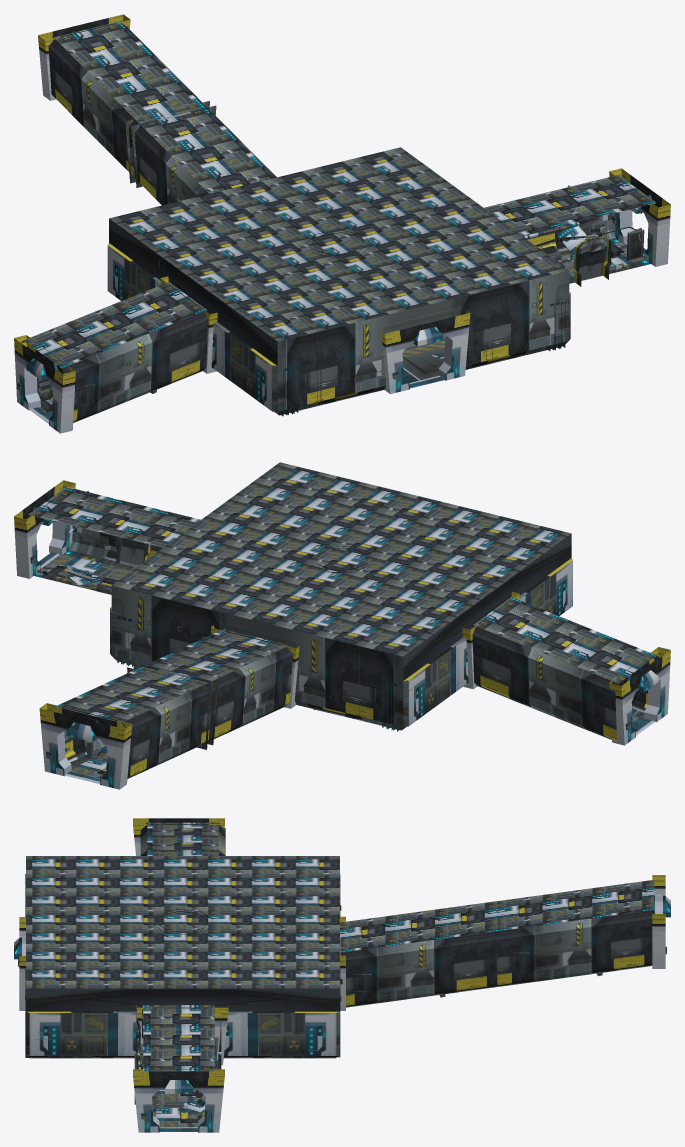
File: Combined_Mesh_root_scene__11_1f1e19ed__ZombiesII_laboratory_08_d_36b73b52_c1f257.obj
3 renders of one model, top to bottom at view 1: azimuth 30°, elevation 25°; view 2: azimuth 150°, elevation 25°; view 3: azimuth 270°, elevation 25°, orthographic. The views are drawn at different scales.
Bounding box in the file's own units: 84.66 × 16.88 × 83.67.
291 materials, 291 textured.
